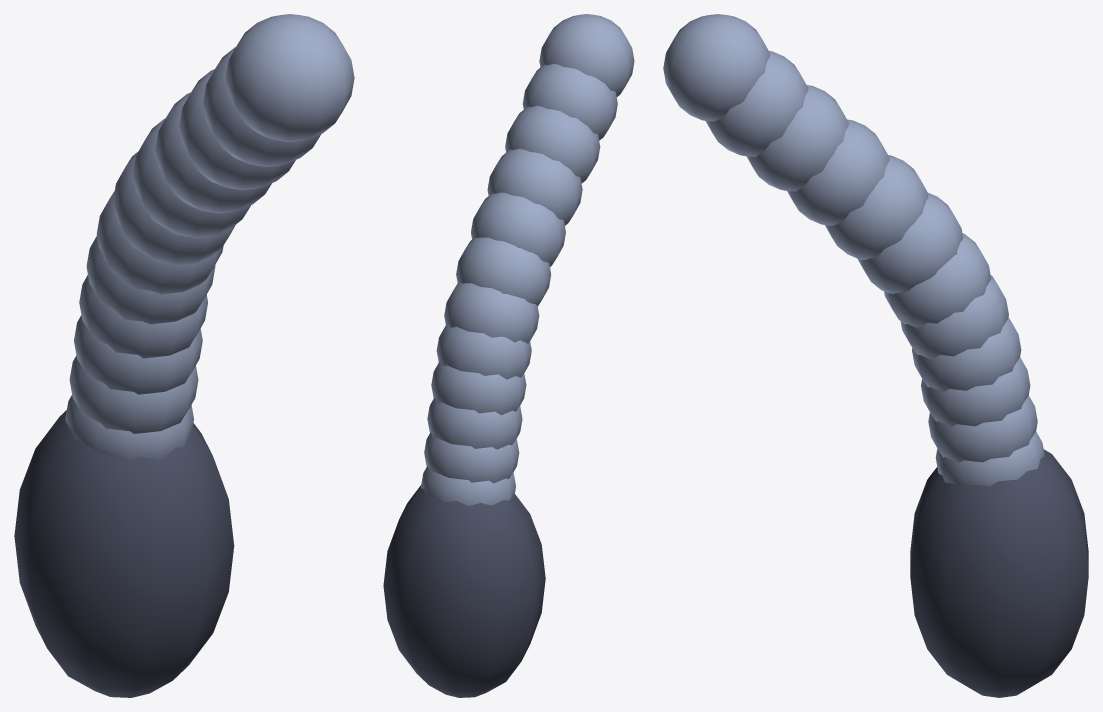
The model's file is tail_elephant.glb.
The picture shows the model from 3 angles, left to right: view 1: azimuth 30°, elevation 25°; view 2: azimuth 150°, elevation 25°; view 3: azimuth 270°, elevation 25°; orthographic projection. The views are drawn at different scales.
Size of the model in its own units: 0.12 by 0.475 by 0.2721.
